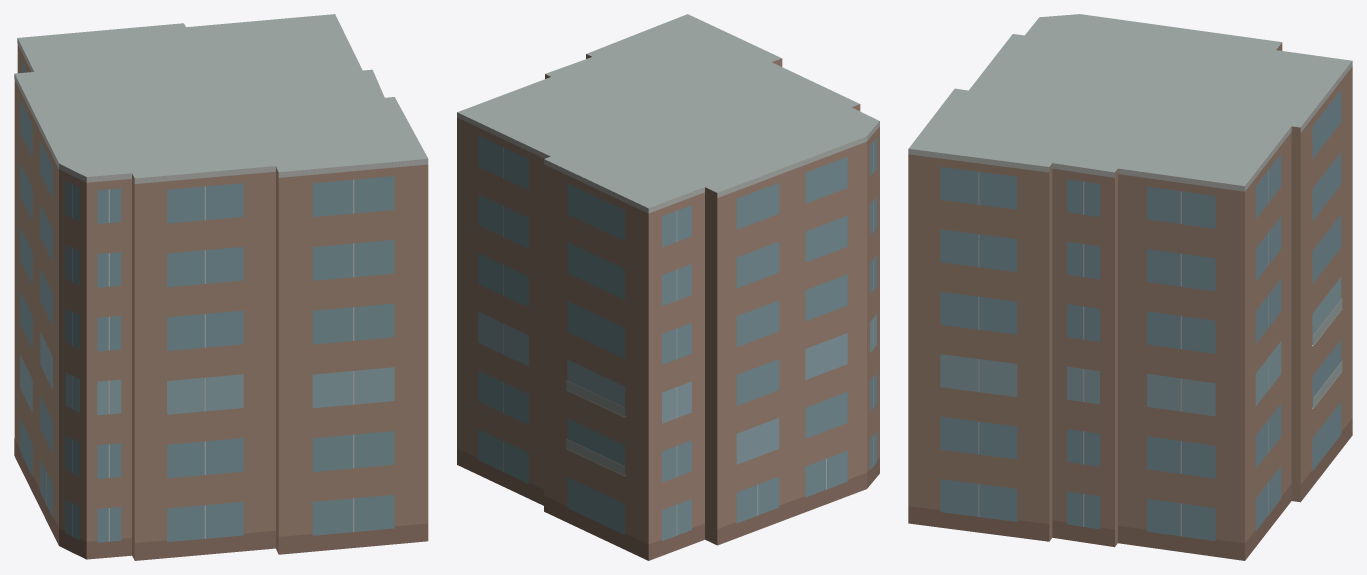
Rendered from survey-upis-32671731.glb.
3 views of the same model, side by side, from view 1: azimuth 30°, elevation 25°; view 2: azimuth 150°, elevation 25°; view 3: azimuth 270°, elevation 25° (orthographic). The views are drawn at different scales.
Visible parts, largest first — view 1: survey-upis-32671731.tmp; view 2: survey-upis-32671731.tmp; view 3: survey-upis-32671731.tmp.
Part boxes in pixels (x1,y1,x2,y2): survey-upis-32671731.tmp: (14, 14, 428, 560); survey-upis-32671731.tmp: (457, 14, 879, 560); survey-upis-32671731.tmp: (908, 14, 1352, 560).
Bounding box in the file's own units: 16.38 × 16.6 × 17.84.
